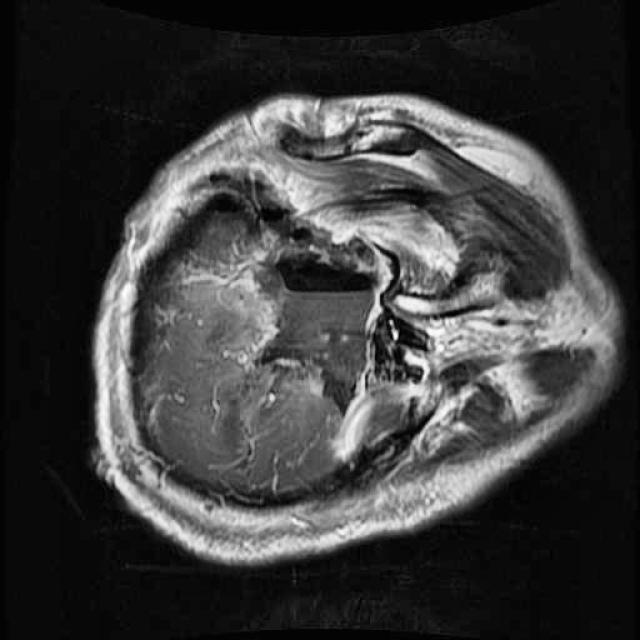Tumor: (244, 225, 381, 426)
